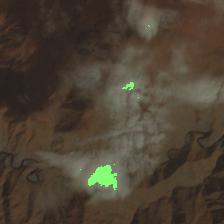landslides: (166, 91, 177, 107), (157, 200, 167, 212), (37, 139, 49, 149)
